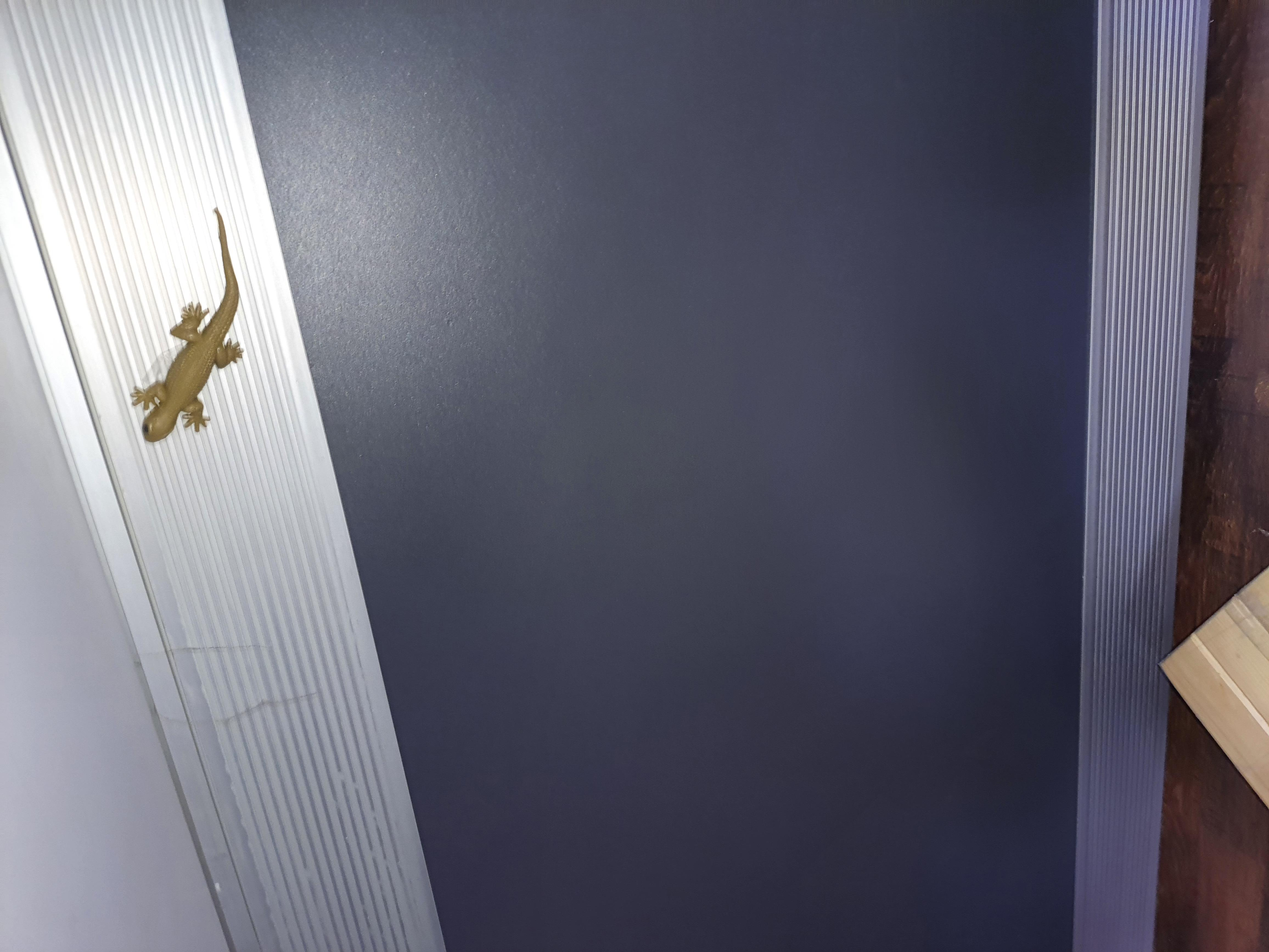lizard: (656, 93, 990, 188)
